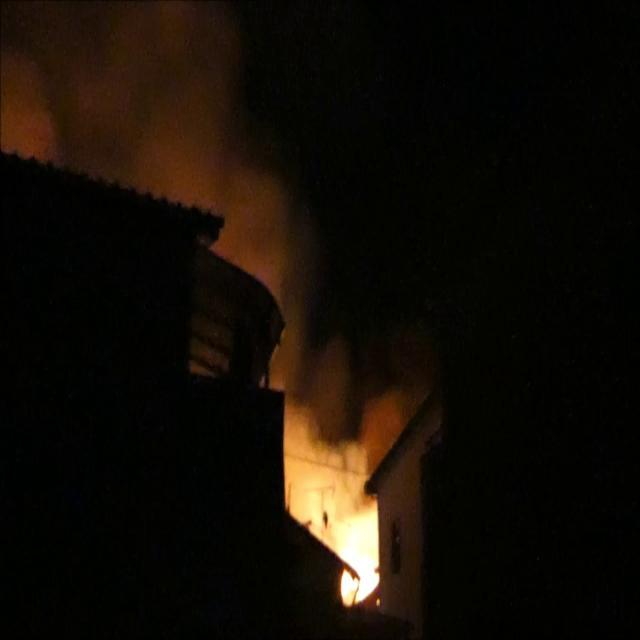Fire: (336, 522, 380, 614)
Smoke: (28, 0, 294, 243)
